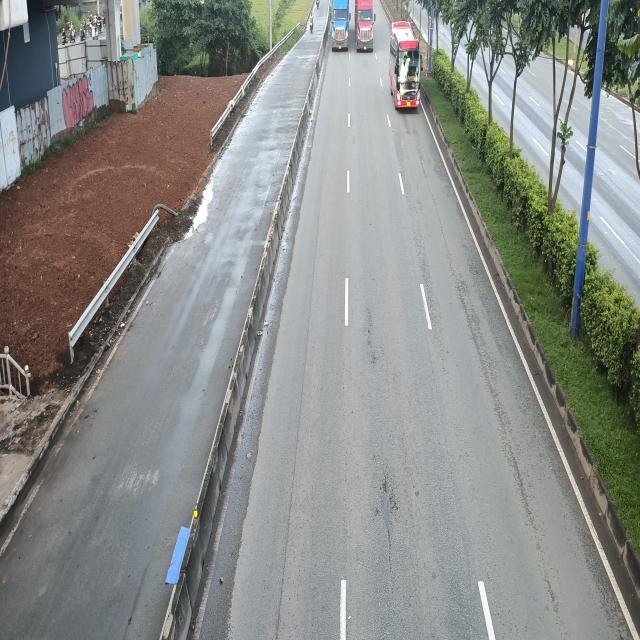coach: (391, 21, 426, 111)
container: (354, 0, 376, 54), (330, 0, 351, 51)
